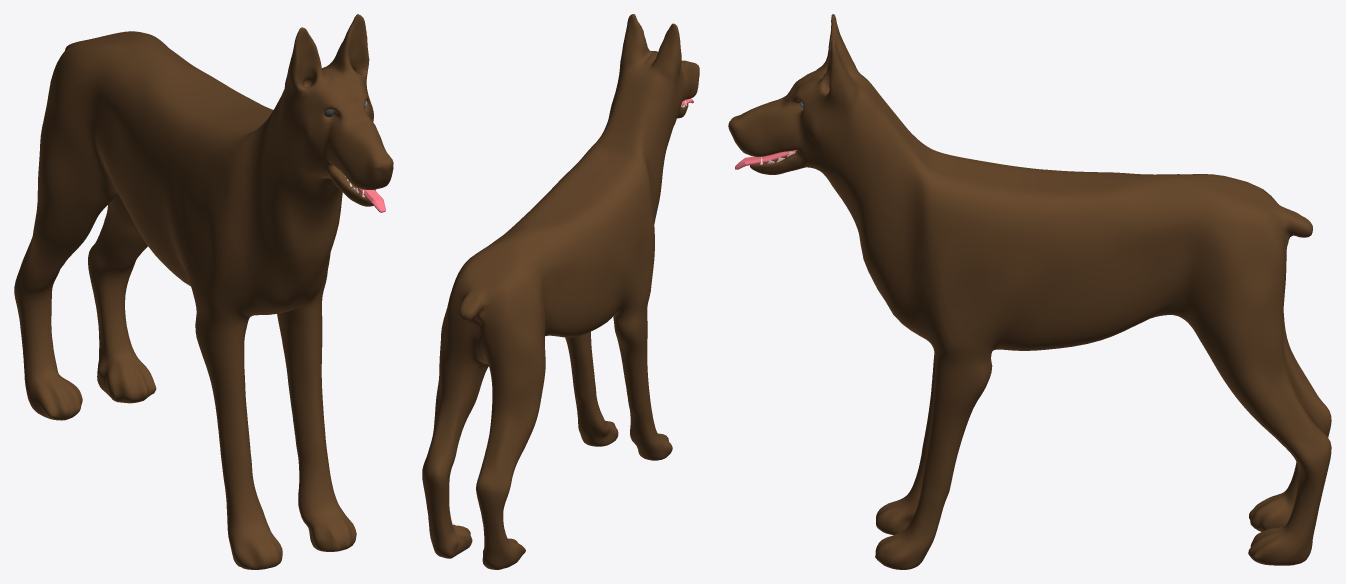
File: TBONE Mesh.fbx
The picture shows the model from 3 angles, left to right: view 1: azimuth 30°, elevation 25°; view 2: azimuth 150°, elevation 25°; view 3: azimuth 270°, elevation 25°; orthographic projection. The views are drawn at different scales.
Parts seen in each view (by area): view 1: TBONE; view 2: TBONE; view 3: TBONE.
Part boxes in pixels (box(x1,y1,x2,y2)): TBONE: box(14, 14, 393, 569); TBONE: box(422, 14, 699, 569); TBONE: box(728, 14, 1331, 569).
Size of the model in its own units: 23.19 by 92 by 96.7.
